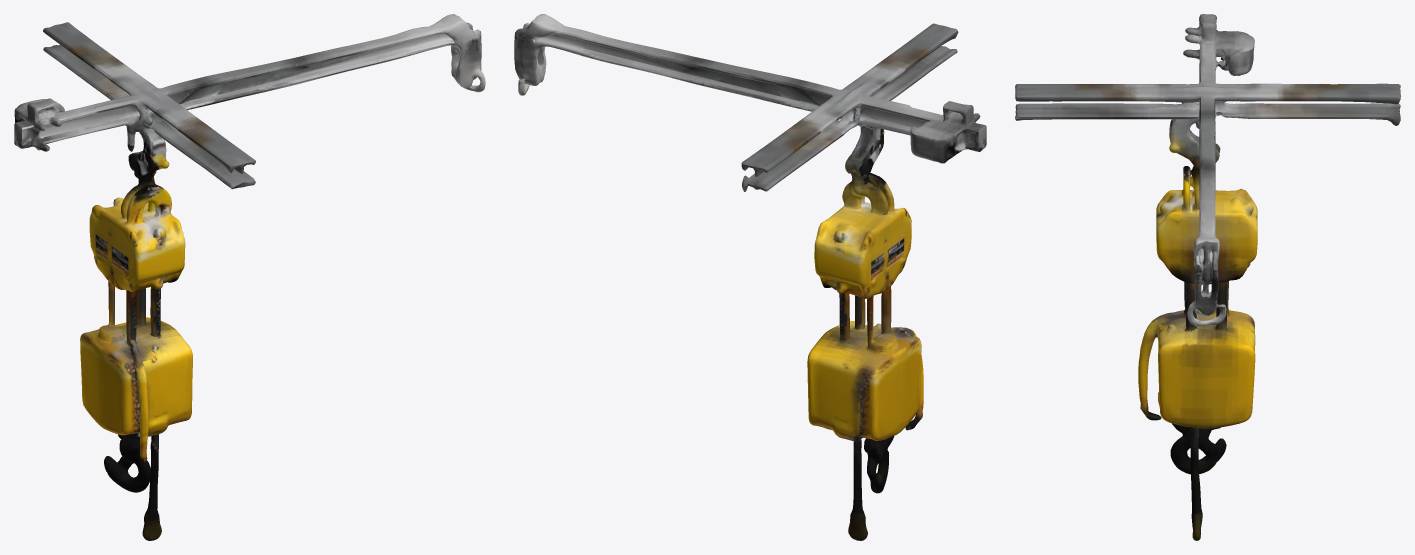
File: chain-hoist.glb
3 views of the same model, side by side, from view 1: azimuth 30°, elevation 25°; view 2: azimuth 150°, elevation 25°; view 3: azimuth 270°, elevation 25° (orthographic). The views are drawn at different scales.
Visible parts, largest first — view 1: cowninja-chain-hoist; view 2: cowninja-chain-hoist; view 3: cowninja-chain-hoist.
Part boxes in pixels (x1,y1,x2,y2): cowninja-chain-hoist: (14, 14, 485, 540); cowninja-chain-hoist: (514, 14, 986, 540); cowninja-chain-hoist: (1015, 14, 1400, 540).
Bounding box in the file's own units: 1.05 × 0.9999 × 0.7457.
1 material, 1 textured.
